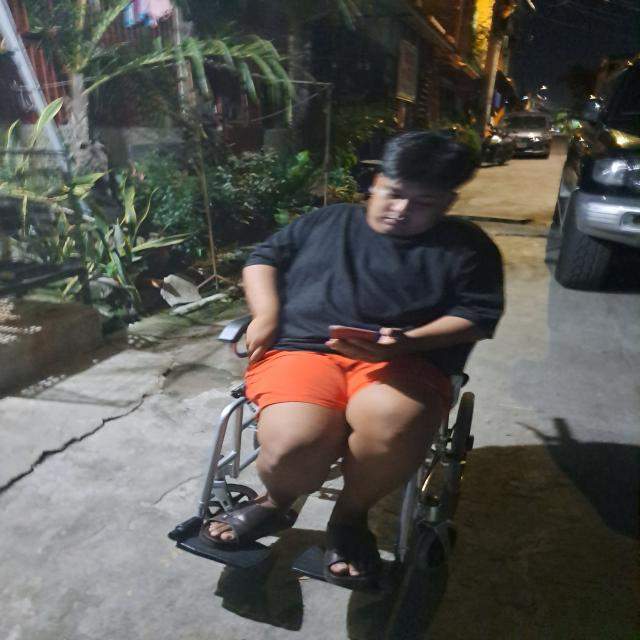wheelchairs: (163, 295, 518, 606)
